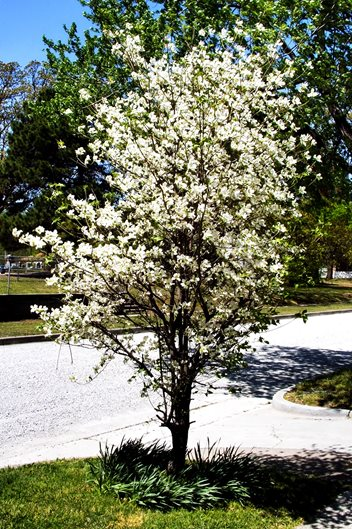tree: (20, 27, 319, 472)
